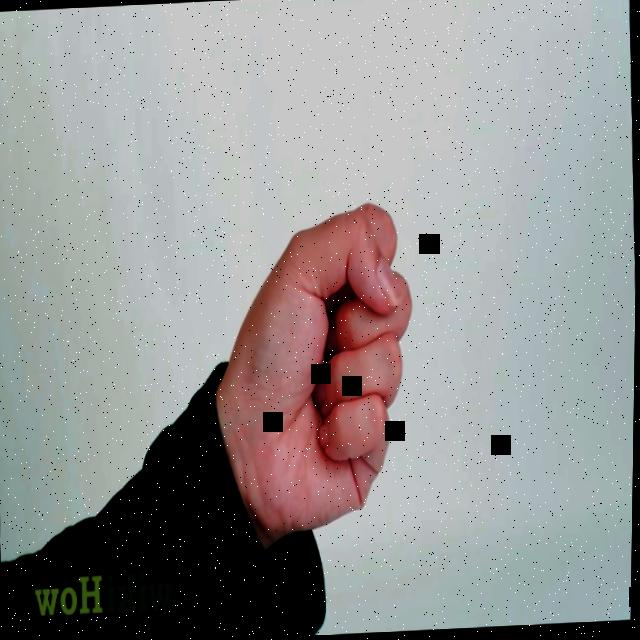Rock: (219, 196, 422, 542)
